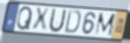6: (82, 11, 98, 35)
D: (63, 9, 82, 35)
M: (94, 13, 117, 38)
Q: (16, 5, 34, 31)
U: (47, 7, 68, 34)
X: (31, 7, 51, 32)
